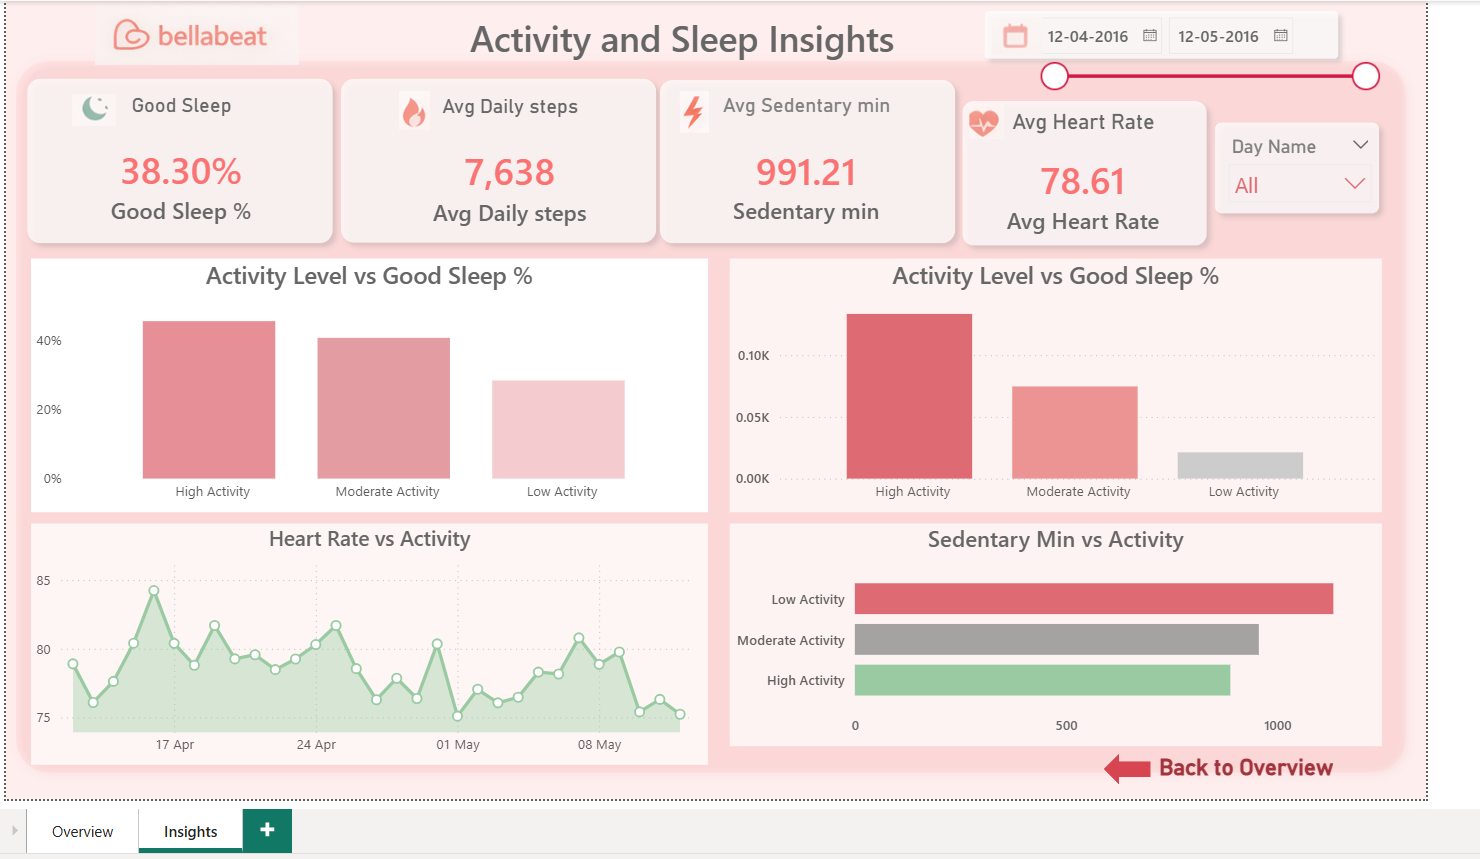

What the dashboard file says about the page in this screenshot:
{"tool":"powerbi","page":{"name":"Insights ","canvas":[1280,720],"ordinal":1},"visuals":[{"type":"shape","box":[0,45.2,1270.5,659.1],"z":0},{"type":"shape","box":[293.5,61.1,302.2,166.2],"z":0,"group":"g1"},{"type":"shape","box":[580.8,62.4,284.4,165.5],"z":0,"group":"g2"},{"type":"shape","box":[853.5,80.7,238.4,148.3],"z":0,"group":"g3"},{"type":"shape","box":[873.3,0,336.7,61.1],"z":1000},{"type":"cardVisual","title":"Avg Sedentary min","fields":{"Data":["Avg(bellabeat master_daily_final.SedentaryMinutes)"]},"box":[590.9,83.3,262.9,144.4],"z":1000,"group":"g2"},{"type":"cardVisual","title":"Avg Daily steps","fields":{"Data":["bellabeat master_daily_final.Avg Daily steps"]},"box":[330.8,85.1,248.8,143.4],"z":1000,"group":"g1"},{"type":"cardVisual","title":"Avg Heart Rate","fields":{"Data":["bellabeat master_daily_final.Avg Heart Rate"]},"box":[861.9,98.2,220.6,130.9],"z":1000,"group":"g3"},{"type":"image","box":[79.8,0,183.7,60.6],"z":2000},{"type":"textbox","box":[288.5,6.7,659.6,53.8],"z":3000},{"type":"shape","box":[9.8,61.1,293.5,166.6],"z":3000,"group":"g4"},{"type":"group","id":"g1","title":"Group 1","box":[293.5,61.1,302,166.3],"z":4000},{"type":"cardVisual","title":"Good Sleep","fields":{"Data":["bellabeat master_daily_final.Good Sleep %"]},"box":[22,83.8,271.5,143.7],"z":4000,"group":"g4"},{"type":"group","id":"g2","title":"Group 1","box":[580.8,62.4,284.9,165.1],"z":5000},{"type":"group","id":"g3","title":"Group 1","box":[853.5,80.7,238.5,148],"z":6000},{"type":"group","id":"g4","title":"Group 2","box":[9.8,61.1,292.3,167.5],"z":7000},{"type":"image","box":[327.7,80.7,80.7,35.5],"z":8000},{"type":"clusteredColumnChart","title":"Activity Level vs Good Sleep %","fields":{"Y":["bellabeat master_daily_final.Step Goal %"],"Category":["bellabeat master_daily_final.Step Category"]},"box":[653,232.3,588.2,228.7],"z":9000},{"type":"slicer","fields":{"Values":["bellabeat master_daily_final.activity_date"]},"box":[917.1,4.9,330.2,80.7],"z":10000},{"type":"image","box":[888.9,14.4,45.6,33.3],"z":11000},{"type":"image","box":[601.6,80.7,37.9,37.9],"z":12000},{"type":"barChart","title":"Sedentary Min vs Activity","fields":{"Y":["Avg(bellabeat master_daily_final.SedentaryMinutes)"],"Category":["bellabeat master_daily_final.Step Category"]},"box":[653,470.8,588.2,200.5],"z":13000},{"type":"clusteredColumnChart","title":"Activity Level vs Good Sleep %","fields":{"Category":["bellabeat master_daily_final.Step Category"],"Y":["bellabeat master_daily_final.Good Sleep %"]},"box":[22,232.3,610.2,228.7],"z":14000},{"type":"lineChart","title":"Heart Rate vs Activity","fields":{"Category":["bellabeat master_daily_final.activity_date"],"Y":["bellabeat master_daily_final.Avg Heart Rate"]},"box":[22.1,470.9,610.5,217.4],"z":15000},{"type":"image","box":[862.1,92.9,44,31.8],"z":16000},{"type":"image","box":[59.9,79.5,39.1,36.7],"z":17000},{"type":"shape","box":[1081,100.3,166.3,100.3],"z":18000},{"type":"slicer","fields":{"Values":["bellabeat master_daily_final.Day Name"]},"box":[1092,116.2,149.2,88],"z":19000},{"type":"actionButton","title":"Back to Overview","box":[865.8,678.7,331.4,28.1],"z":20000,"group":"g5"},{"type":"shape","box":[989.3,678.7,42.8,28.1],"z":20001,"group":"g5"},{"type":"group","id":"g5","title":"Group 3","box":[865.8,678.7,331.4,28.1],"z":20002}]}

Visuals, with their boxes on the page's 1280x720 design canvas (x1, y1, x2, y2). These are canvas units, not pixel positions in the 1480x859 screenshot, which may show the page scaled, cropped or inside an application window:
shape: {"left": 0, "top": 45, "right": 1270, "bottom": 704}
shape: {"left": 294, "top": 61, "right": 596, "bottom": 227}
shape: {"left": 581, "top": 62, "right": 865, "bottom": 228}
shape: {"left": 854, "top": 81, "right": 1092, "bottom": 229}
shape: {"left": 873, "top": 0, "right": 1210, "bottom": 61}
"Avg Sedentary min" cardVisual: {"left": 591, "top": 83, "right": 854, "bottom": 228}
"Avg Daily steps" cardVisual: {"left": 331, "top": 85, "right": 580, "bottom": 228}
"Avg Heart Rate" cardVisual: {"left": 862, "top": 98, "right": 1082, "bottom": 229}
image: {"left": 80, "top": 0, "right": 264, "bottom": 61}
textbox: {"left": 288, "top": 7, "right": 948, "bottom": 60}
shape: {"left": 10, "top": 61, "right": 303, "bottom": 228}
"Group 1" group: {"left": 294, "top": 61, "right": 596, "bottom": 227}
"Good Sleep" cardVisual: {"left": 22, "top": 84, "right": 294, "bottom": 228}
"Group 1" group: {"left": 581, "top": 62, "right": 866, "bottom": 228}
"Group 1" group: {"left": 854, "top": 81, "right": 1092, "bottom": 229}
"Group 2" group: {"left": 10, "top": 61, "right": 302, "bottom": 229}
image: {"left": 328, "top": 81, "right": 408, "bottom": 116}
"Activity Level vs Good Sleep %" clusteredColumnChart: {"left": 653, "top": 232, "right": 1241, "bottom": 461}
slicer - bellabeat master_daily_final.activity_date: {"left": 917, "top": 5, "right": 1247, "bottom": 86}
image: {"left": 889, "top": 14, "right": 934, "bottom": 48}
image: {"left": 602, "top": 81, "right": 640, "bottom": 119}
"Sedentary Min vs Activity" barChart: {"left": 653, "top": 471, "right": 1241, "bottom": 671}
"Activity Level vs Good Sleep %" clusteredColumnChart: {"left": 22, "top": 232, "right": 632, "bottom": 461}
"Heart Rate vs Activity" lineChart: {"left": 22, "top": 471, "right": 633, "bottom": 688}
image: {"left": 862, "top": 93, "right": 906, "bottom": 125}
image: {"left": 60, "top": 80, "right": 99, "bottom": 116}
shape: {"left": 1081, "top": 100, "right": 1247, "bottom": 201}
slicer - bellabeat master_daily_final.Day Name: {"left": 1092, "top": 116, "right": 1241, "bottom": 204}
"Back to Overview" actionButton: {"left": 866, "top": 679, "right": 1197, "bottom": 707}
shape: {"left": 989, "top": 679, "right": 1032, "bottom": 707}
"Group 3" group: {"left": 866, "top": 679, "right": 1197, "bottom": 707}
